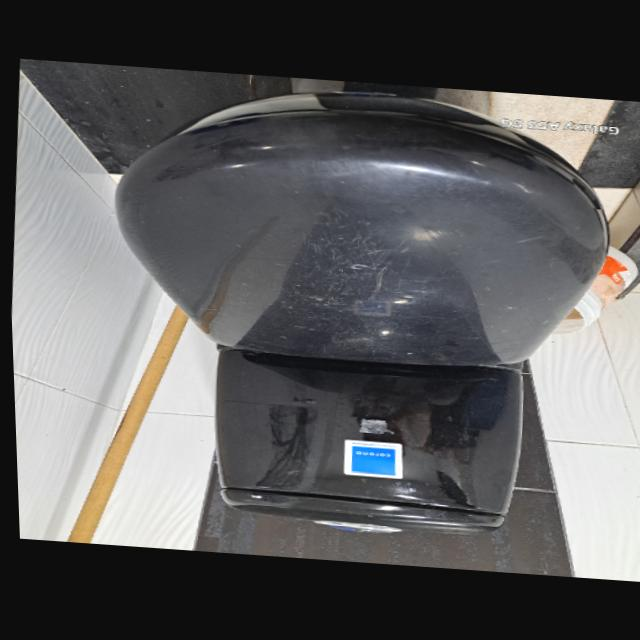toilet: (87, 68, 628, 550)
